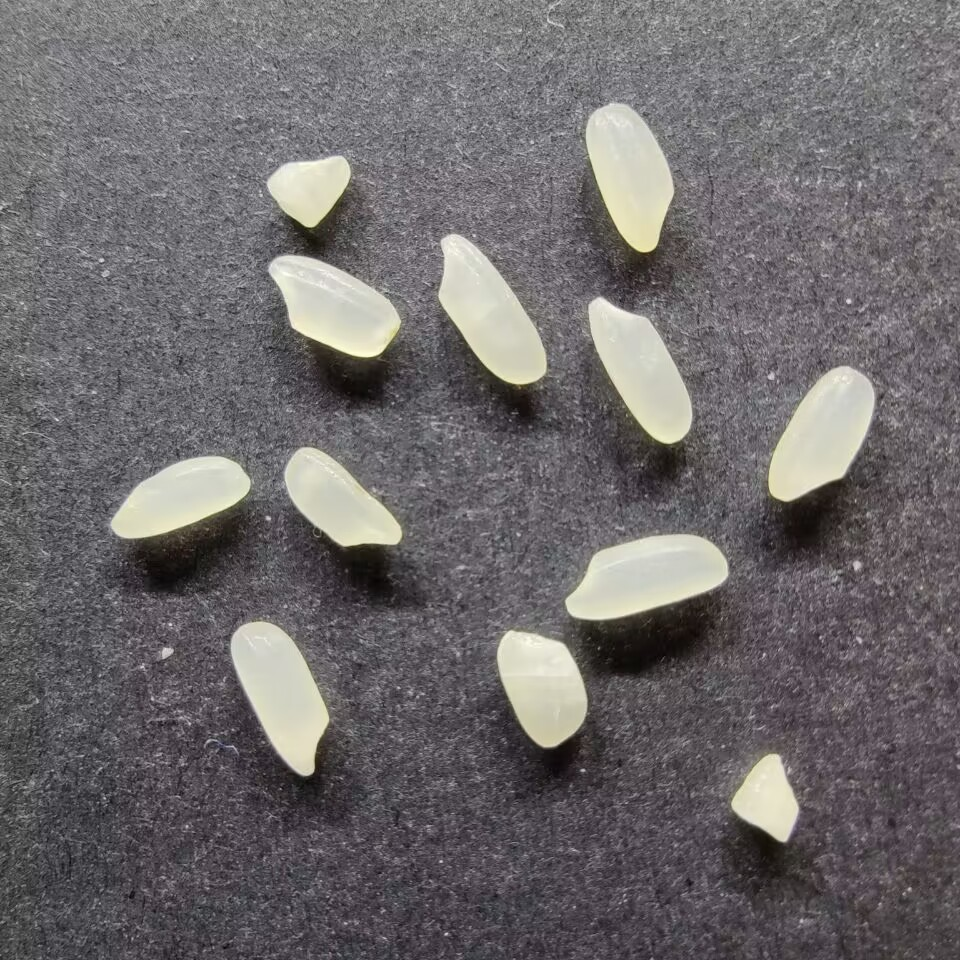broken: (730, 752, 800, 843), (265, 154, 351, 228)
rice: (436, 233, 547, 385), (229, 620, 331, 776), (586, 296, 693, 444), (766, 366, 875, 502), (563, 534, 729, 620), (267, 254, 401, 358), (584, 102, 675, 253), (283, 446, 403, 548), (109, 456, 250, 539), (496, 629, 588, 747)
